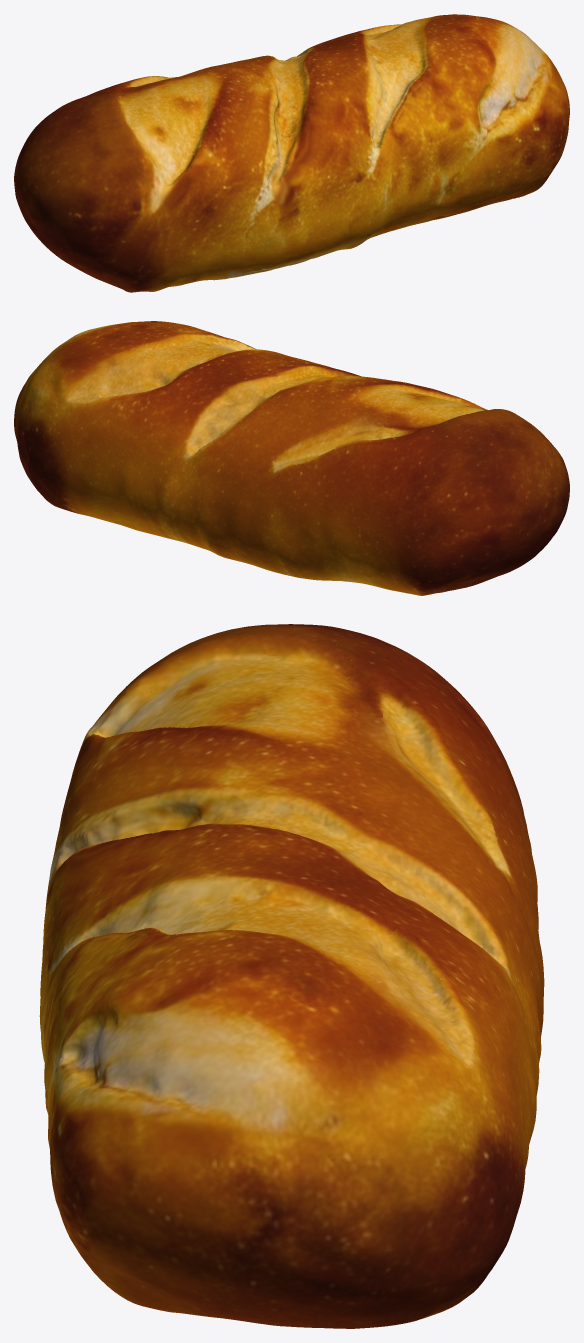
The model's file is булка3.glb.
3 renders of one model, top to bottom at view 1: azimuth 30°, elevation 25°; view 2: azimuth 150°, elevation 25°; view 3: azimuth 270°, elevation 25°, orthographic. The views are drawn at different scales.
Parts seen in each view (by area): view 1: tmpouknt4ut.ply; view 2: tmpouknt4ut.ply; view 3: tmpouknt4ut.ply.
Part boxes in pixels (x1=…): tmpouknt4ut.ply: x1=14, y1=14, x2=569, y2=292; tmpouknt4ut.ply: x1=14, y1=321, x2=569, y2=595; tmpouknt4ut.ply: x1=39, y1=624, x2=544, y2=1328.
Size of the model in its own units: 1.12 by 0.3457 by 0.4696.
Materials: 1 (1 with a texture image).
